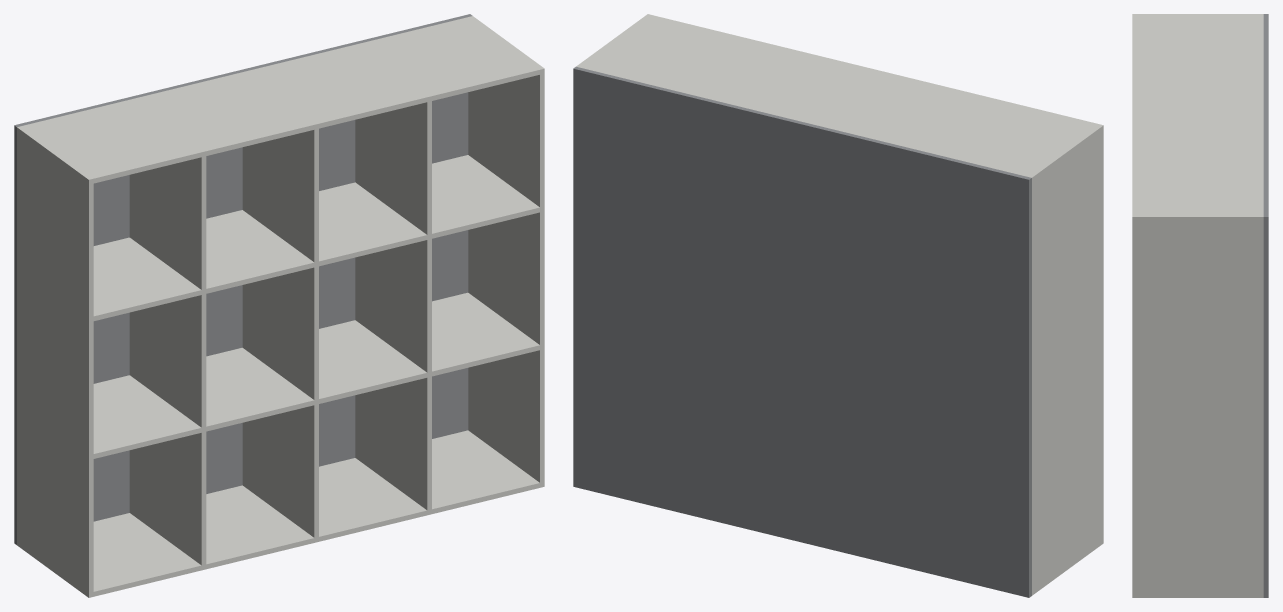
Rendered from SM_Carguero_Bahia.fbx.
3 renders of one model, left to right at view 1: azimuth 30°, elevation 25°; view 2: azimuth 150°, elevation 25°; view 3: azimuth 270°, elevation 25°, orthographic. The views are drawn at different scales.
Visible parts, largest first — view 1: SM_Carguero_Bahia; view 2: SM_Carguero_Bahia; view 3: SM_Carguero_Bahia.
Part boxes in pixels (bbox=[...]): SM_Carguero_Bahia: bbox=[14, 14, 544, 597]; SM_Carguero_Bahia: bbox=[573, 14, 1103, 597]; SM_Carguero_Bahia: bbox=[1132, 14, 1268, 597].
Bounding box in the file's own units: 1.94 × 1.7 × 0.55.
